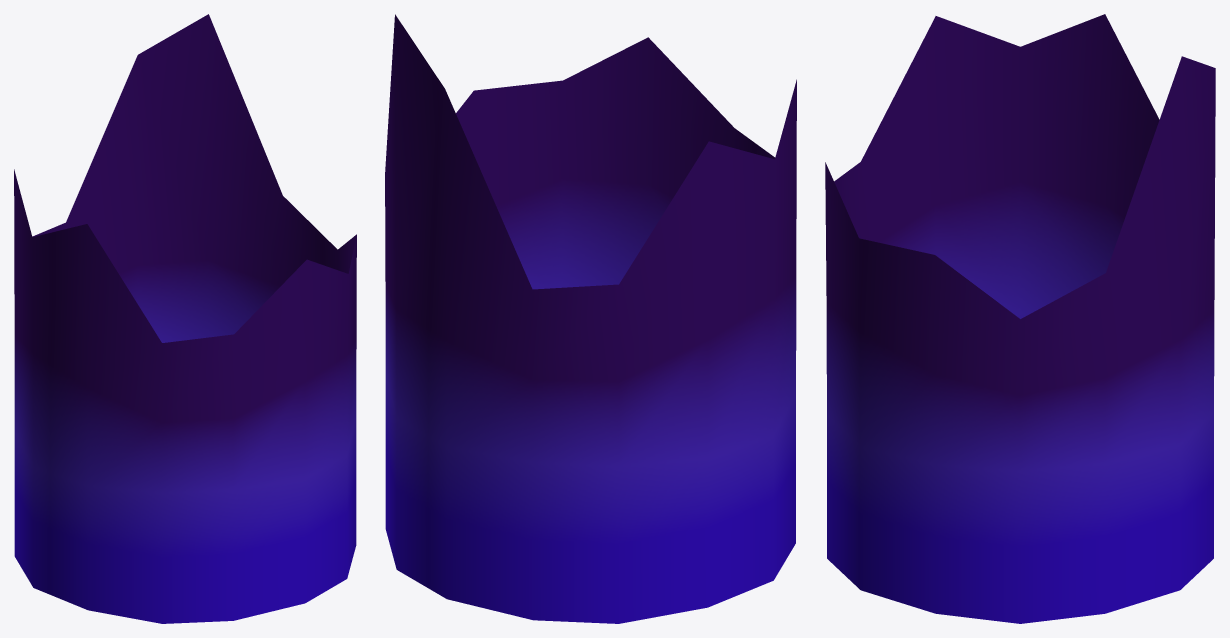
The model's file is yuanzhu_001.FBX.
The picture shows the model from 3 angles, left to right: view 1: azimuth 30°, elevation 25°; view 2: azimuth 150°, elevation 25°; view 3: azimuth 270°, elevation 25°; orthographic projection. The views are drawn at different scales.
Visible parts, largest first — view 1: yuanzhu_001; view 2: yuanzhu_001; view 3: yuanzhu_001.
Boxes of the visible parts, <box> form: yuanzhu_001: <box>14,14,356,623</box>; yuanzhu_001: <box>385,14,796,623</box>; yuanzhu_001: <box>825,14,1215,623</box>.
Bounding box in the file's own units: 70.22 × 102 × 67.37.
